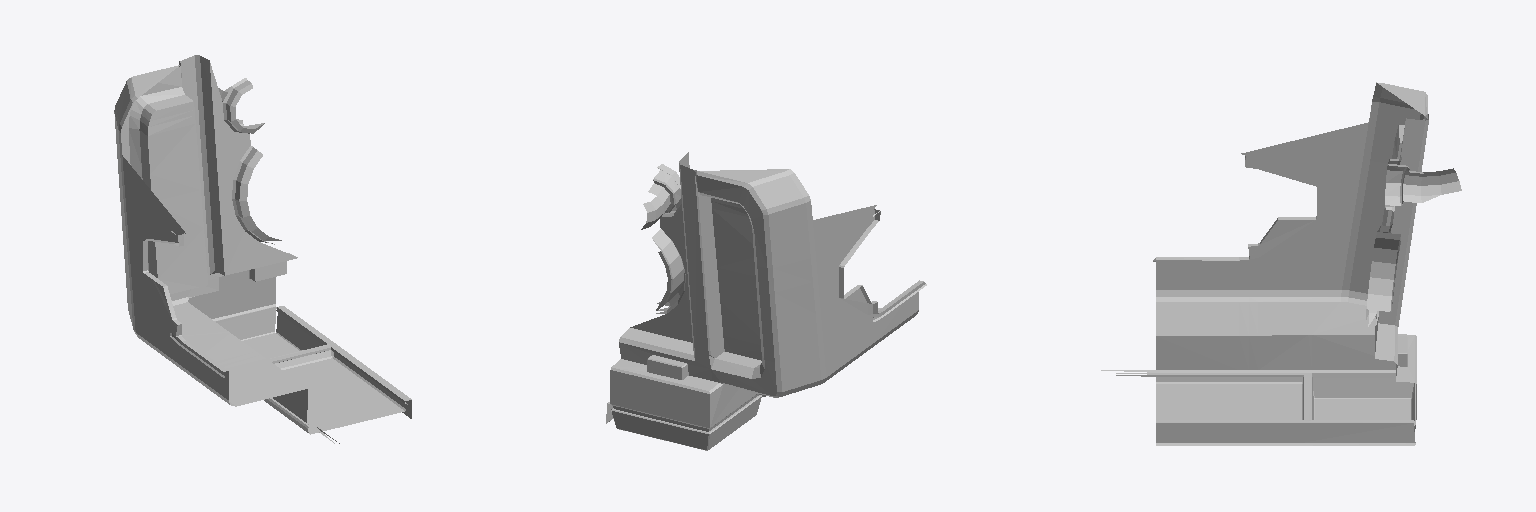
File: shard13.obj
The picture shows the model from 3 angles: view 1: azimuth 30°, elevation 25°; view 2: azimuth 150°, elevation 25°; view 3: azimuth 270°, elevation 25°; orthographic projection.
Visible parts, largest first — view 1: defaultMaterial.011; view 2: defaultMaterial.011; view 3: defaultMaterial.011.
Part boxes in pixels (x1,y1,x2,y2): defaultMaterial.011: (114,55,411,443); defaultMaterial.011: (606,152,926,450); defaultMaterial.011: (1101,82,1461,445).
Size of the model in its own units: 4.75 by 6.9 by 7.81.